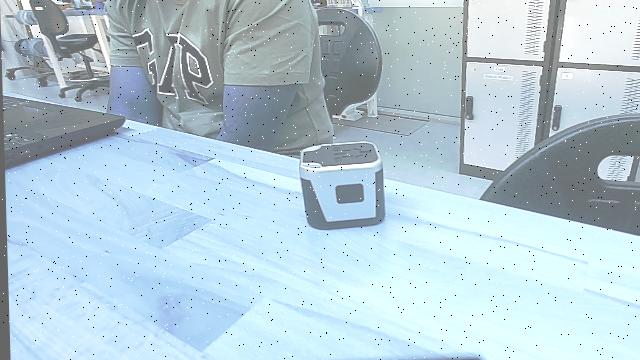adapter: (293, 136, 391, 229)
